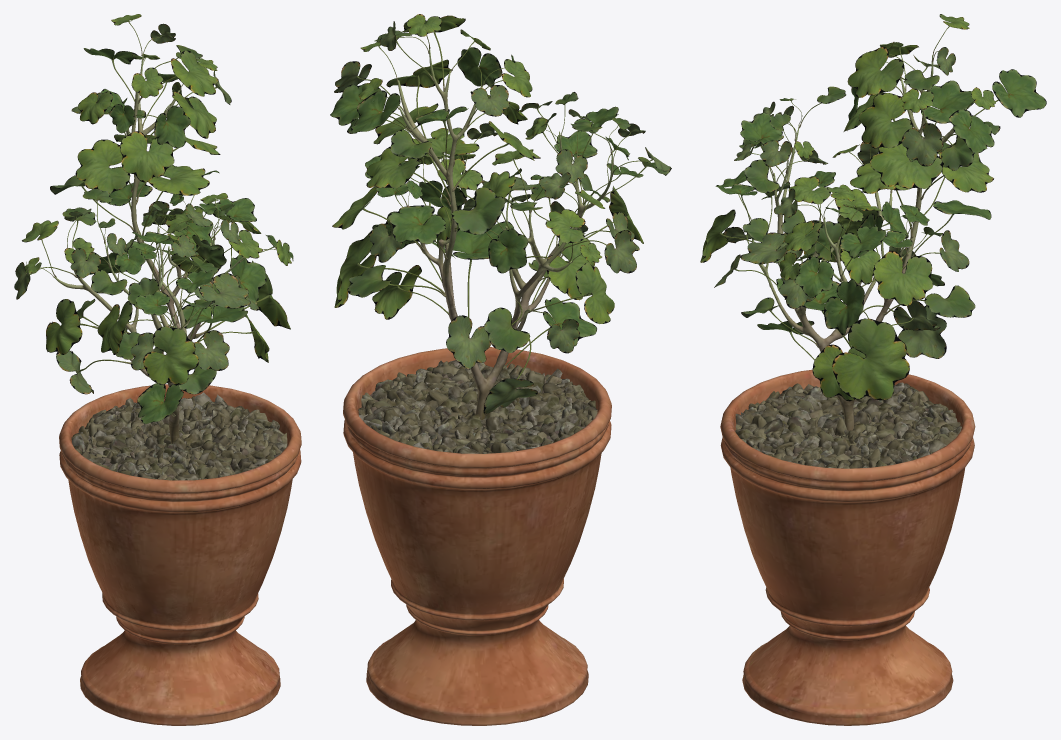
Rendered from potted_plant_01.glb.
3 views of the same model, side by side, from view 1: azimuth 30°, elevation 25°; view 2: azimuth 150°, elevation 25°; view 3: azimuth 270°, elevation 25° (orthographic). The views are drawn at different scales.
Parts seen in each view (by area): view 1: potted_plant_01_stem, potted_plant_01_leaves; view 2: potted_plant_01_stem, potted_plant_01_leaves; view 3: potted_plant_01_stem, potted_plant_01_leaves.
Boxes of the visible parts, x1,y1,x2,y2 form: potted_plant_01_stem: (54, 54, 301, 725); potted_plant_01_leaves: (14, 14, 293, 423); potted_plant_01_stem: (343, 49, 612, 725); potted_plant_01_leaves: (330, 14, 671, 414); potted_plant_01_stem: (720, 55, 975, 725); potted_plant_01_leaves: (700, 14, 1046, 401).
Size of the model in its own units: 0.5874 by 1.34 by 0.6336.
2 materials, 2 textured.
